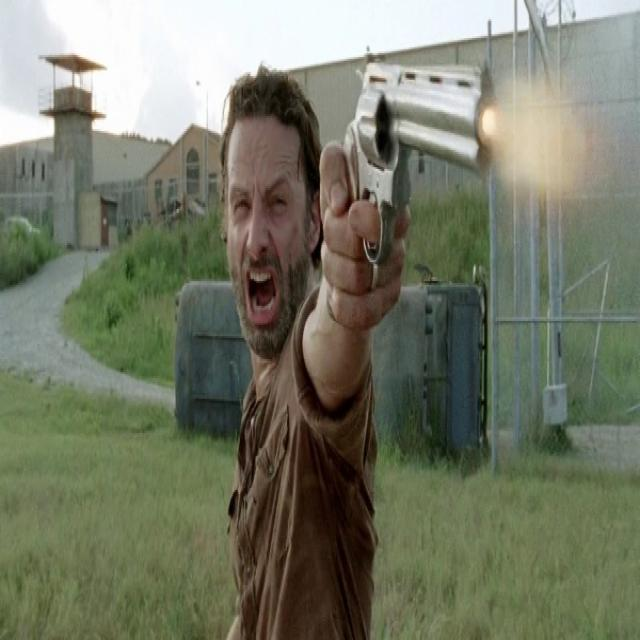weapons: (326, 29, 510, 299)
